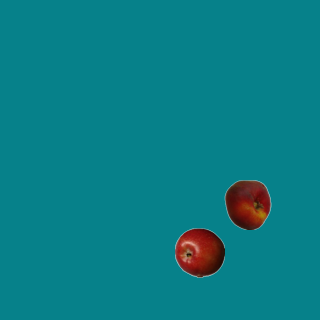Apple Braeburn: (174, 227, 224, 277)
Nectarine Flat: (222, 179, 272, 229)
